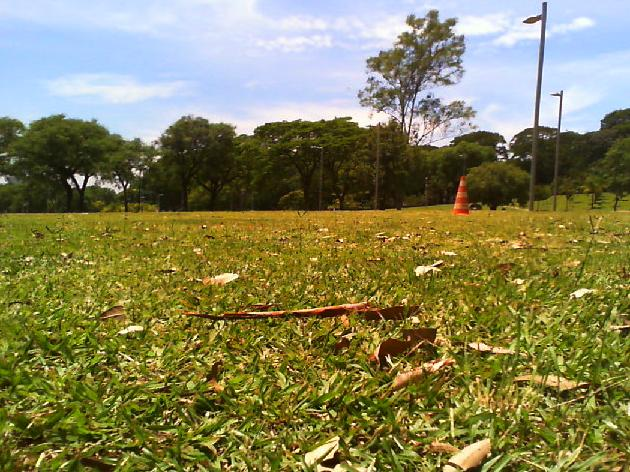0 cone: (450, 174, 470, 214)
